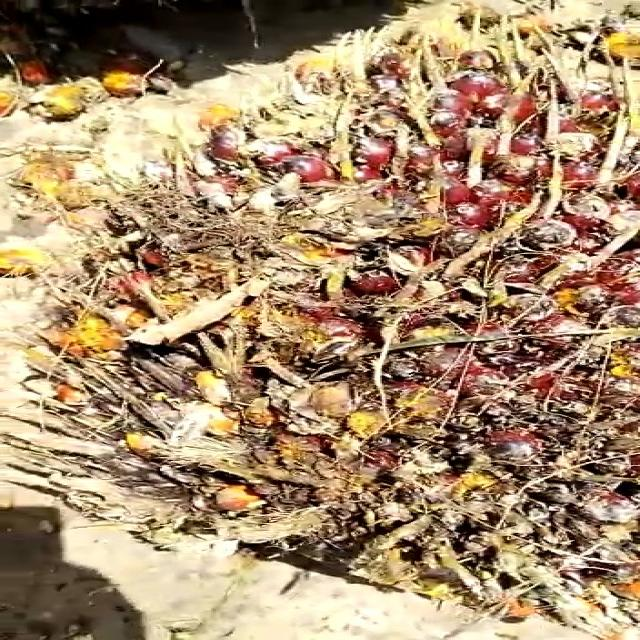palm oil: (63, 2, 640, 640)
